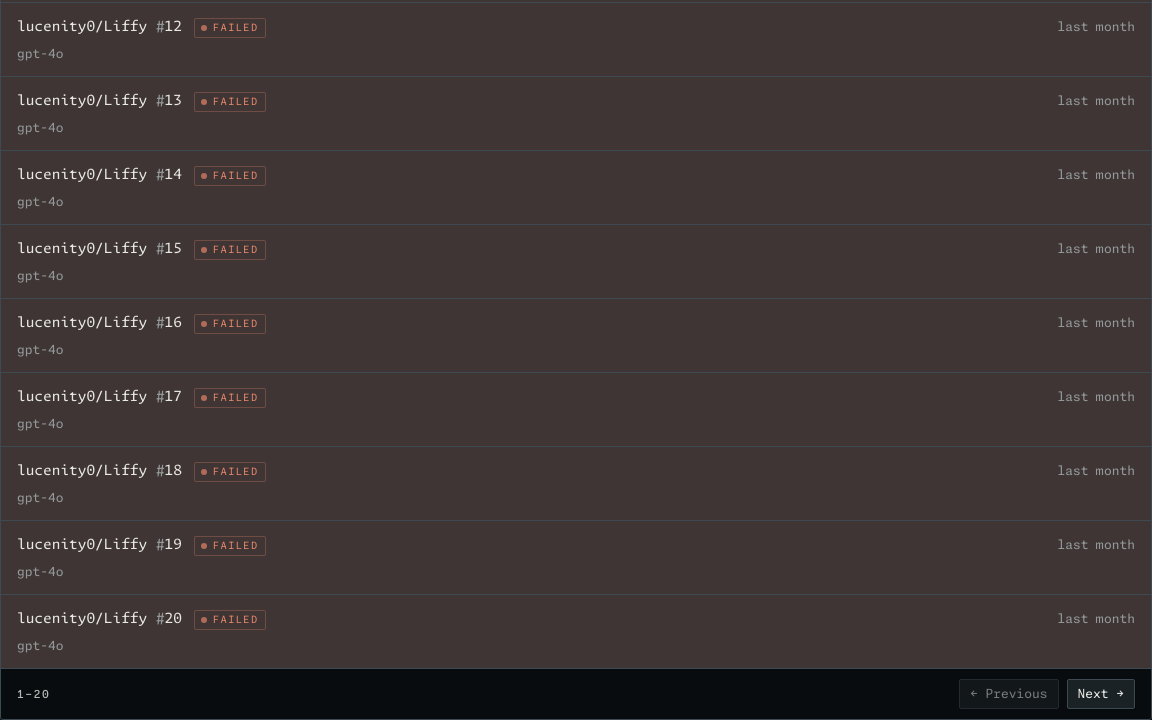
Test: Reviews › keeps the previous page on screen while the next one loads
(page scrolled)
Click the button "Next →" at (1101, 694), box x1=1066 y1=679 x2=1135 y2=709
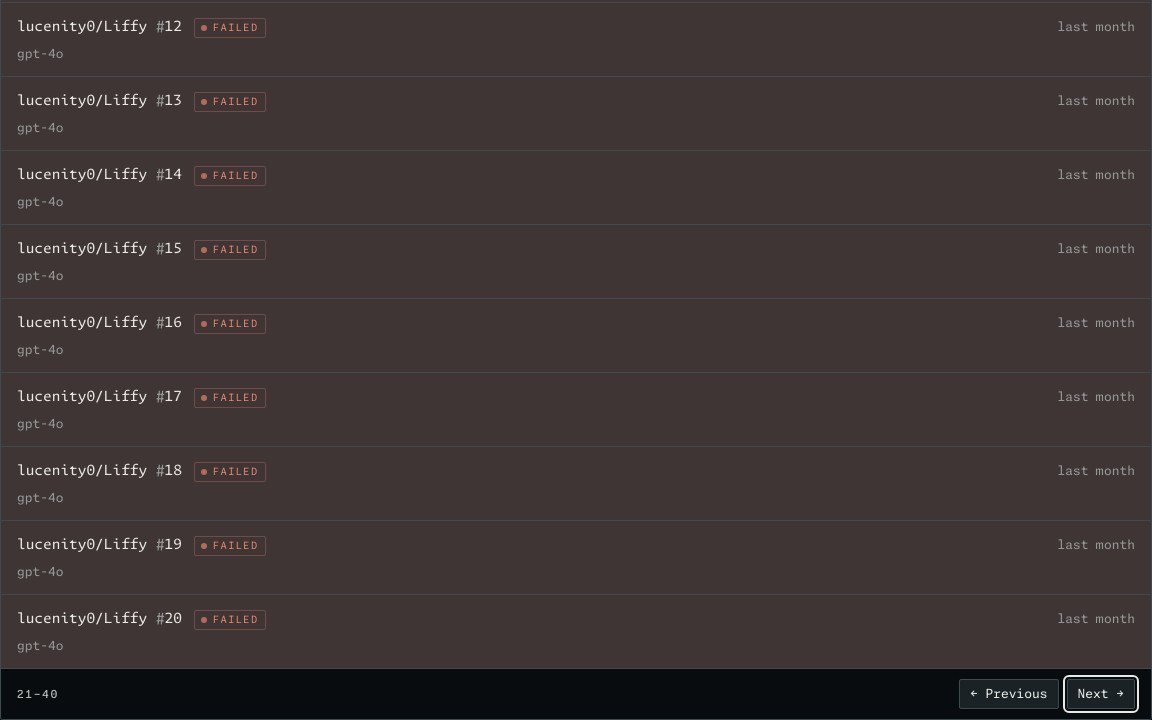
Expected: the navigation bar named "Pagination" shows "21–40", x1=17 y1=688 x2=59 y2=700
